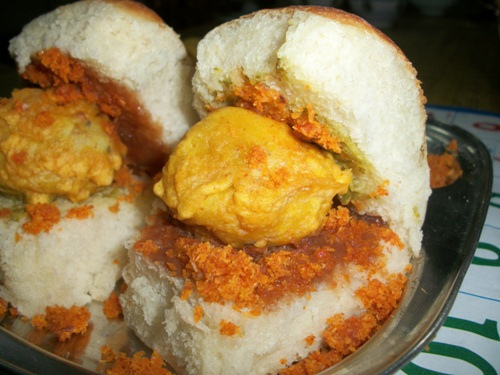vada pav: (203, 27, 354, 348), (29, 24, 120, 288)
